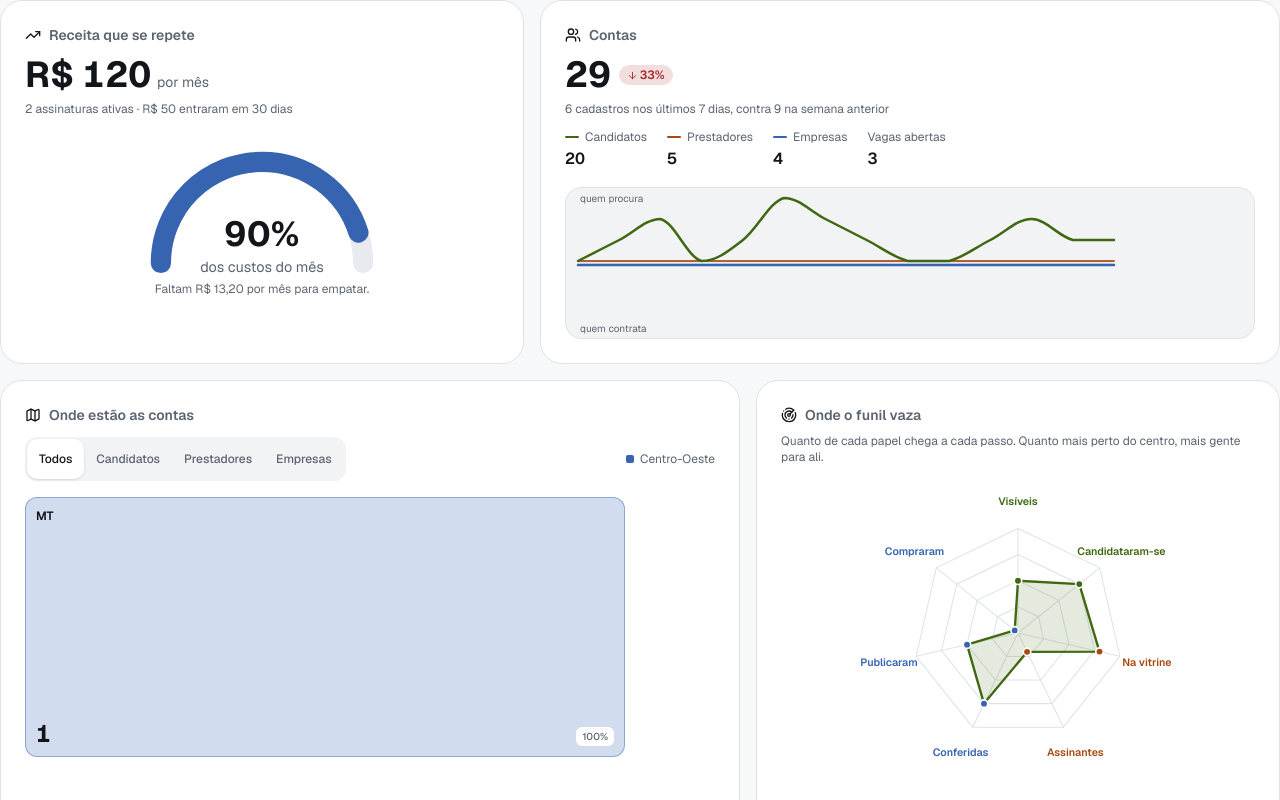
tela da visão geral › papel sem conta nenhuma diz isso, em vez de um mapa vazio
Step 1. Click the button "Prestadores" → click(218, 459), box [172, 439, 264, 479]
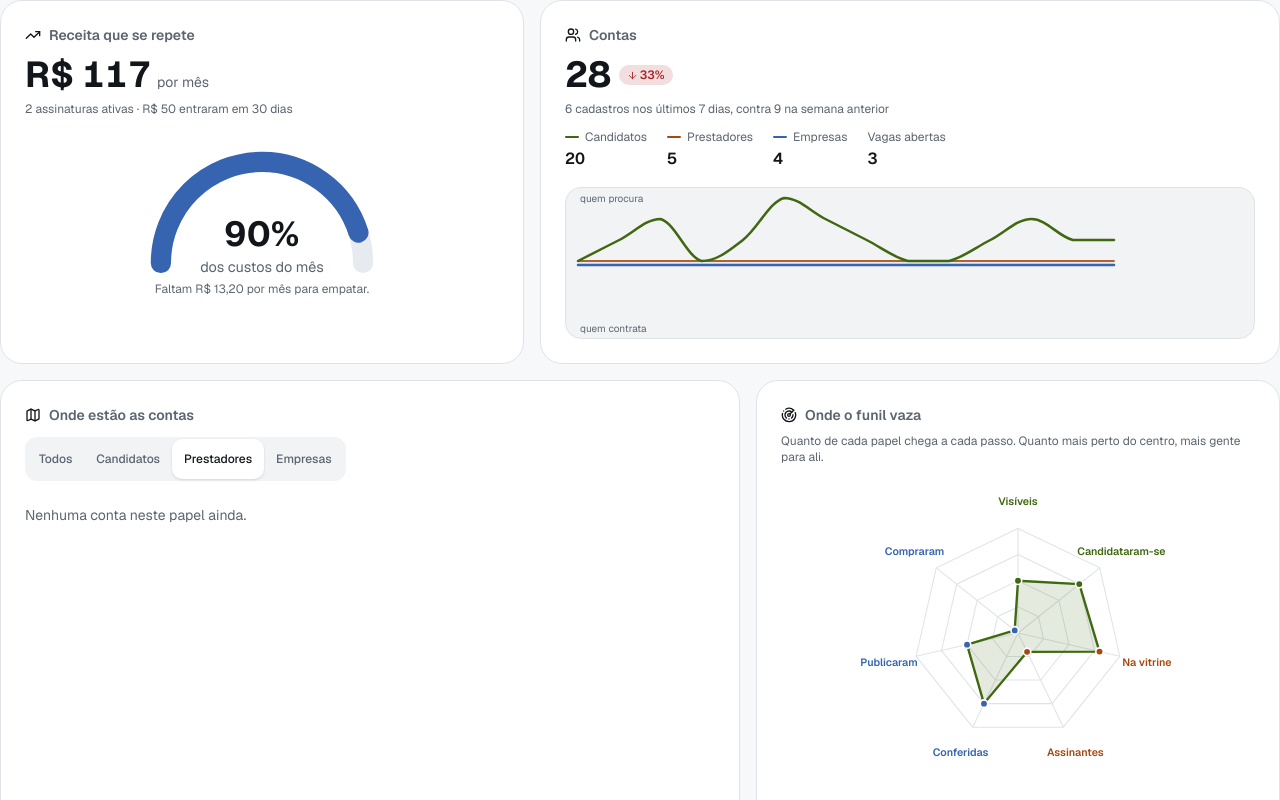
Check: the text "Nenhuma conta neste papel ainda." is shown, box [25, 506, 246, 524]
